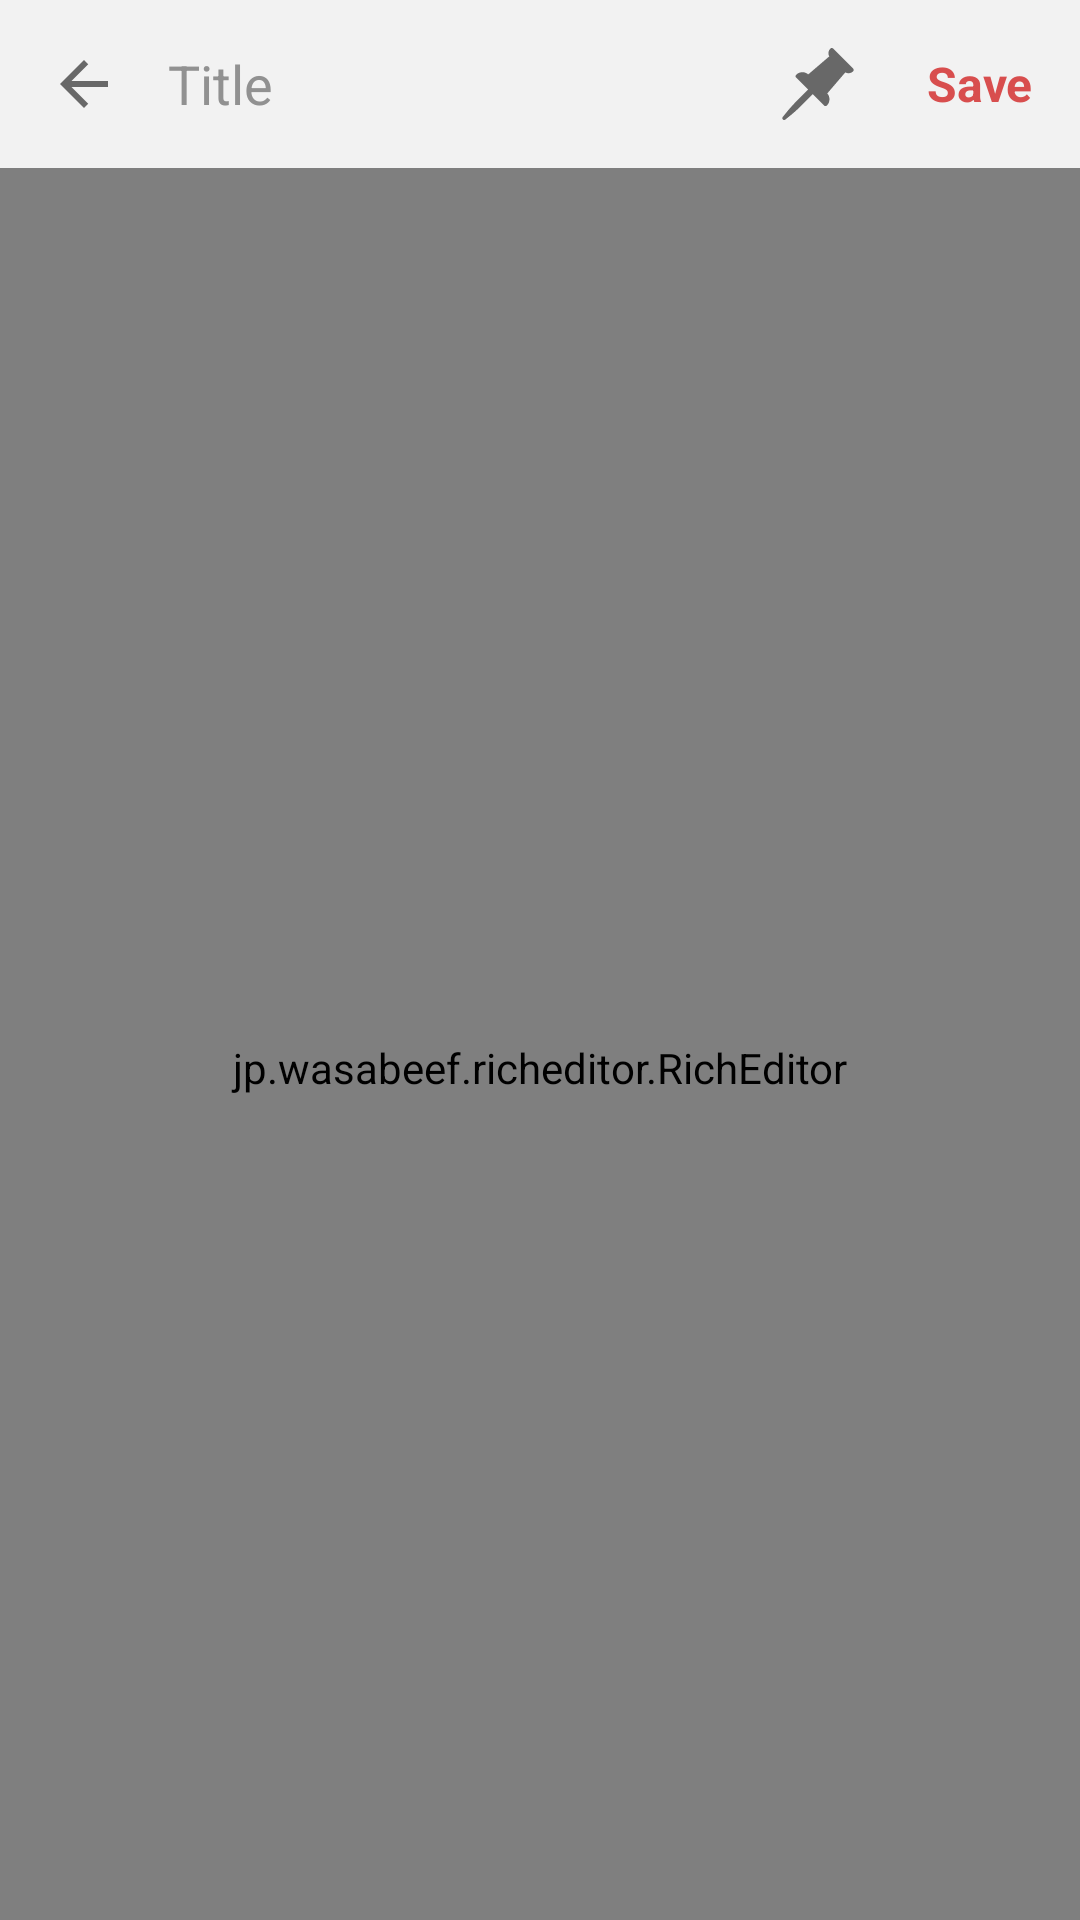

Icon click points for this 1080 x 1920 phone screenshot, format [x,y]:
arrow back: [84,84]
pin: [818,84]
